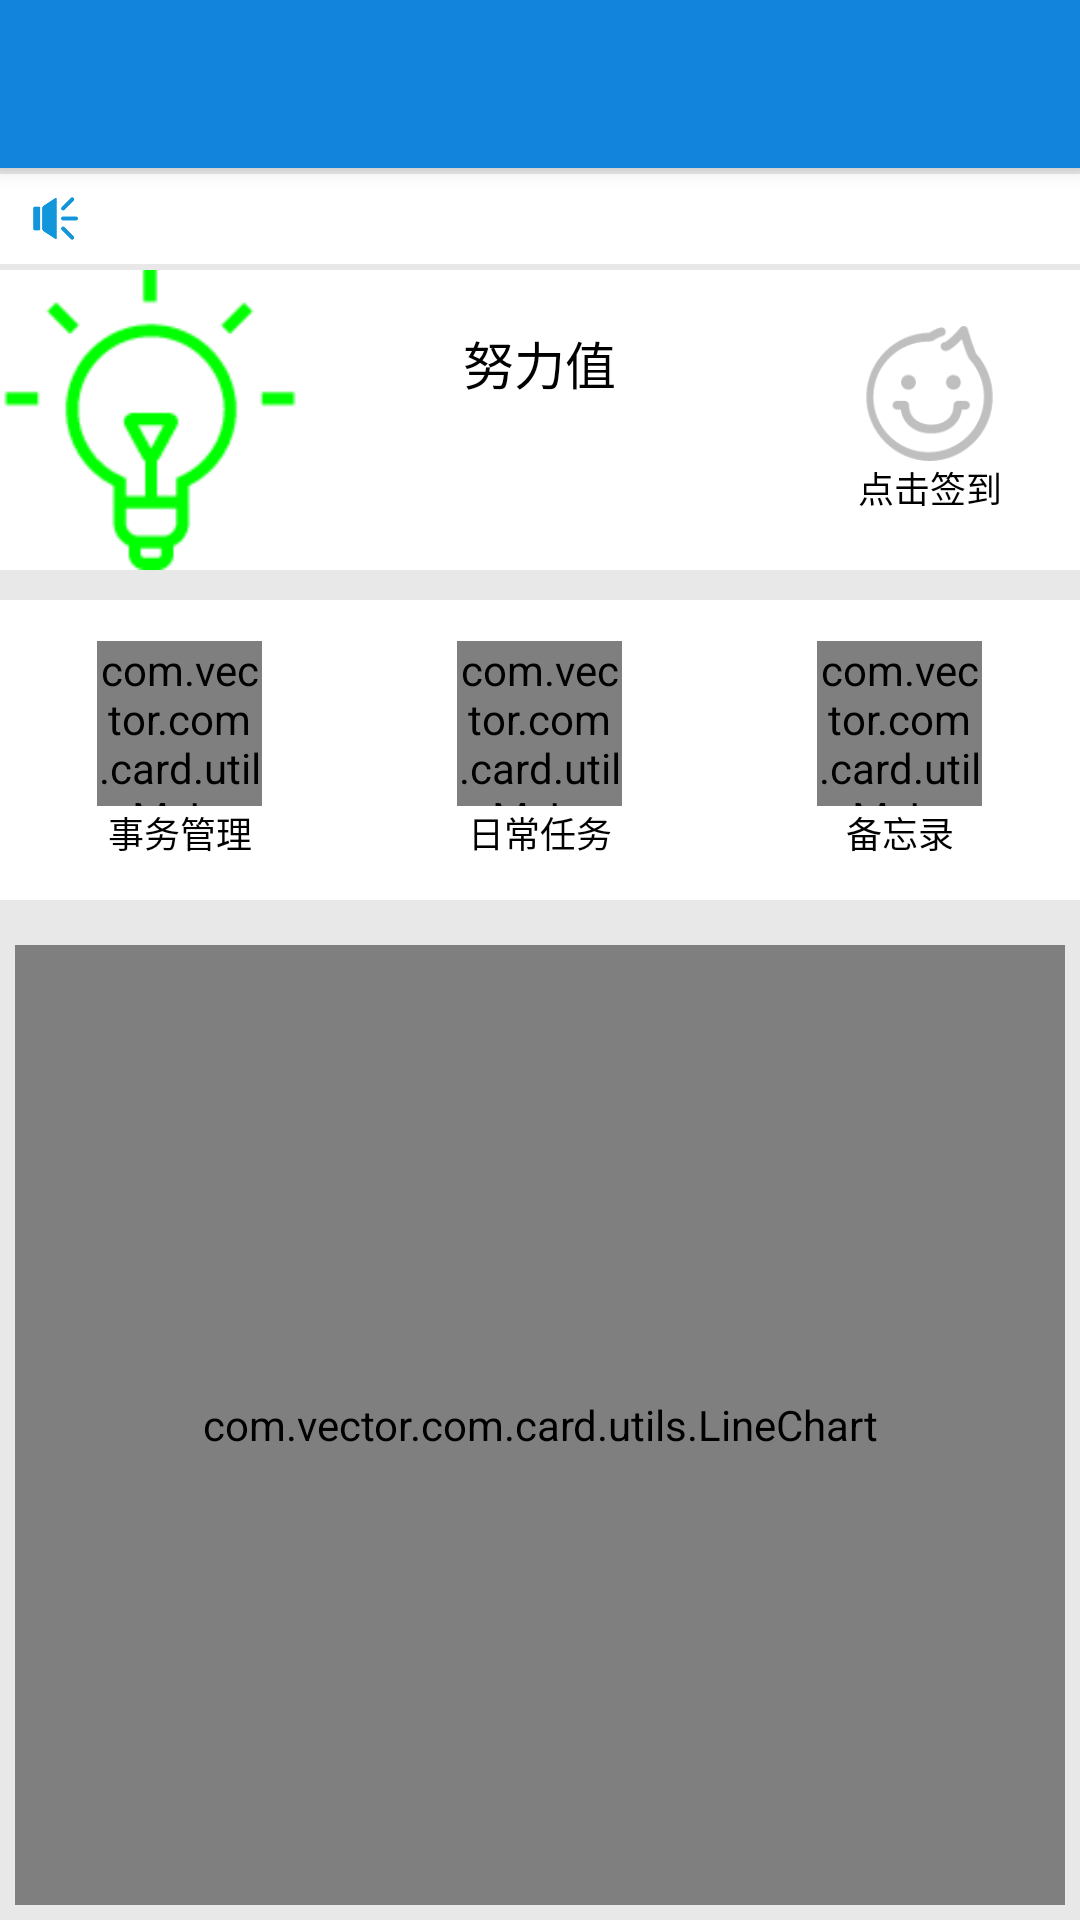

Where to tap for icons on this 1080 × 1920 app screen, as (x=x, y=y):
laba: (x=55, y=218)
weiqiandao: (x=929, y=393)
